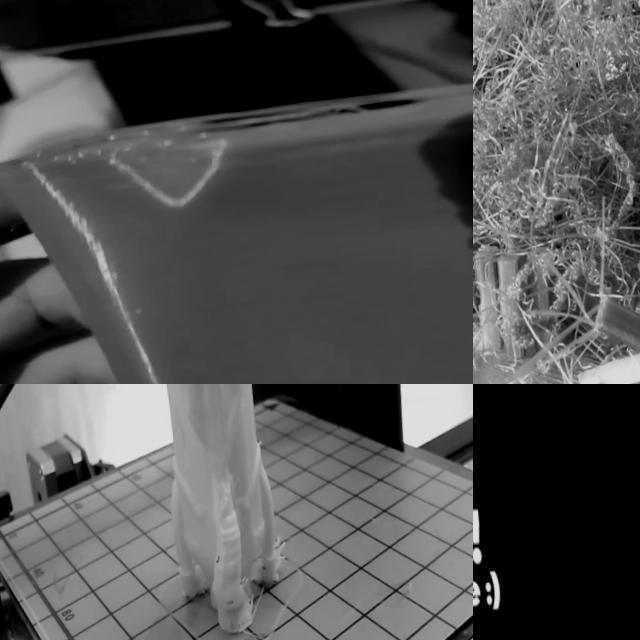spaghetti: (473, 0, 640, 384)
